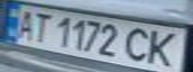1: (66, 16, 87, 51), (51, 15, 72, 48)
2: (96, 20, 124, 58)
7: (81, 18, 103, 54)
A: (12, 7, 39, 40)
C: (121, 25, 157, 64)
K: (142, 27, 187, 70)
T: (27, 10, 57, 44)
